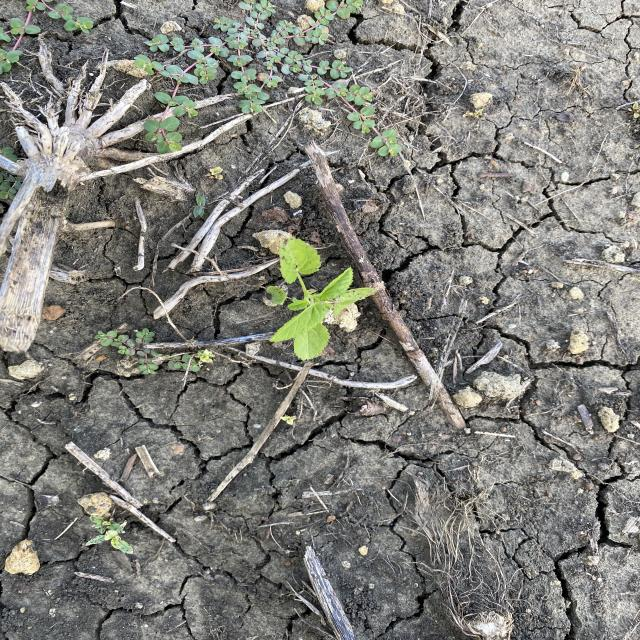PricklySida: (258, 238, 378, 362)
SpottedSpurge: (129, 0, 408, 160), (1, 0, 95, 72), (95, 327, 203, 377)
